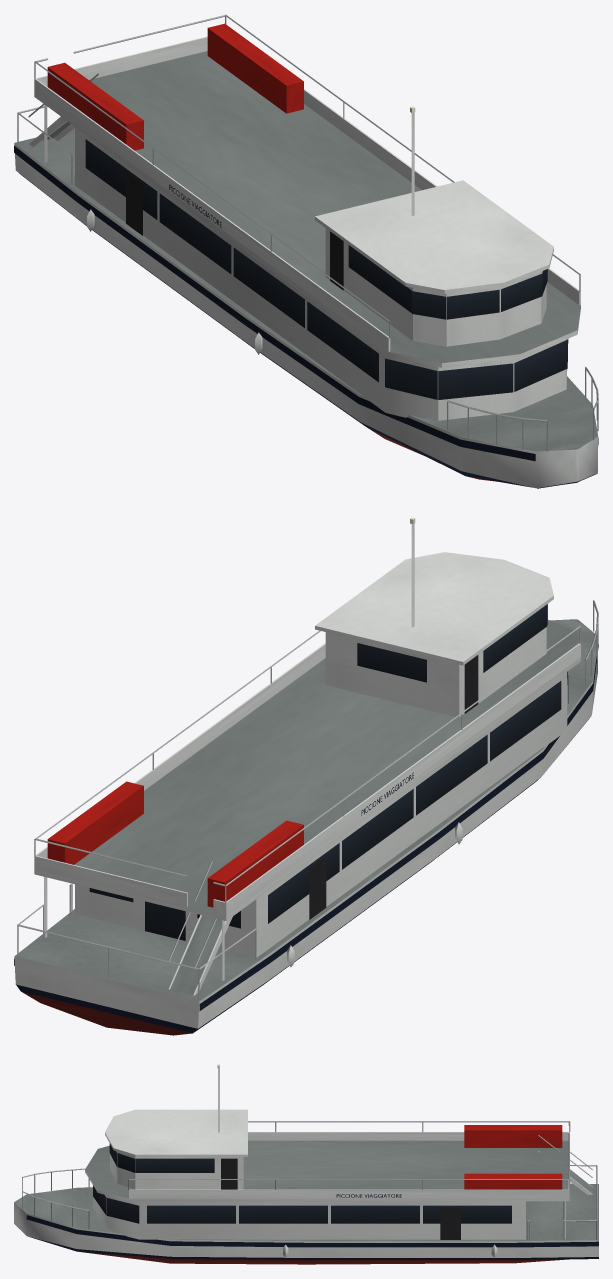
Rendered from SM_Morin_Traghetto_v2_LOD2.fbx.
3 views of the same model, one above another, from view 1: azimuth 30°, elevation 25°; view 2: azimuth 150°, elevation 25°; view 3: azimuth 270°, elevation 25° (orthographic). The views are drawn at different scales.
Visible parts, largest first — view 1: SM_Morin_Traghetto_v2_LOD2; view 2: SM_Morin_Traghetto_v2_LOD2; view 3: SM_Morin_Traghetto_v2_LOD2.
Part boxes in pixels (x1,y1,x2,y2): SM_Morin_Traghetto_v2_LOD2: (14, 14, 598, 488); SM_Morin_Traghetto_v2_LOD2: (14, 517, 598, 1035); SM_Morin_Traghetto_v2_LOD2: (14, 1064, 598, 1264).
Bounding box in the file's own units: 714 × 2800 × 1012.
Materials: 1 (1 with a texture image).
